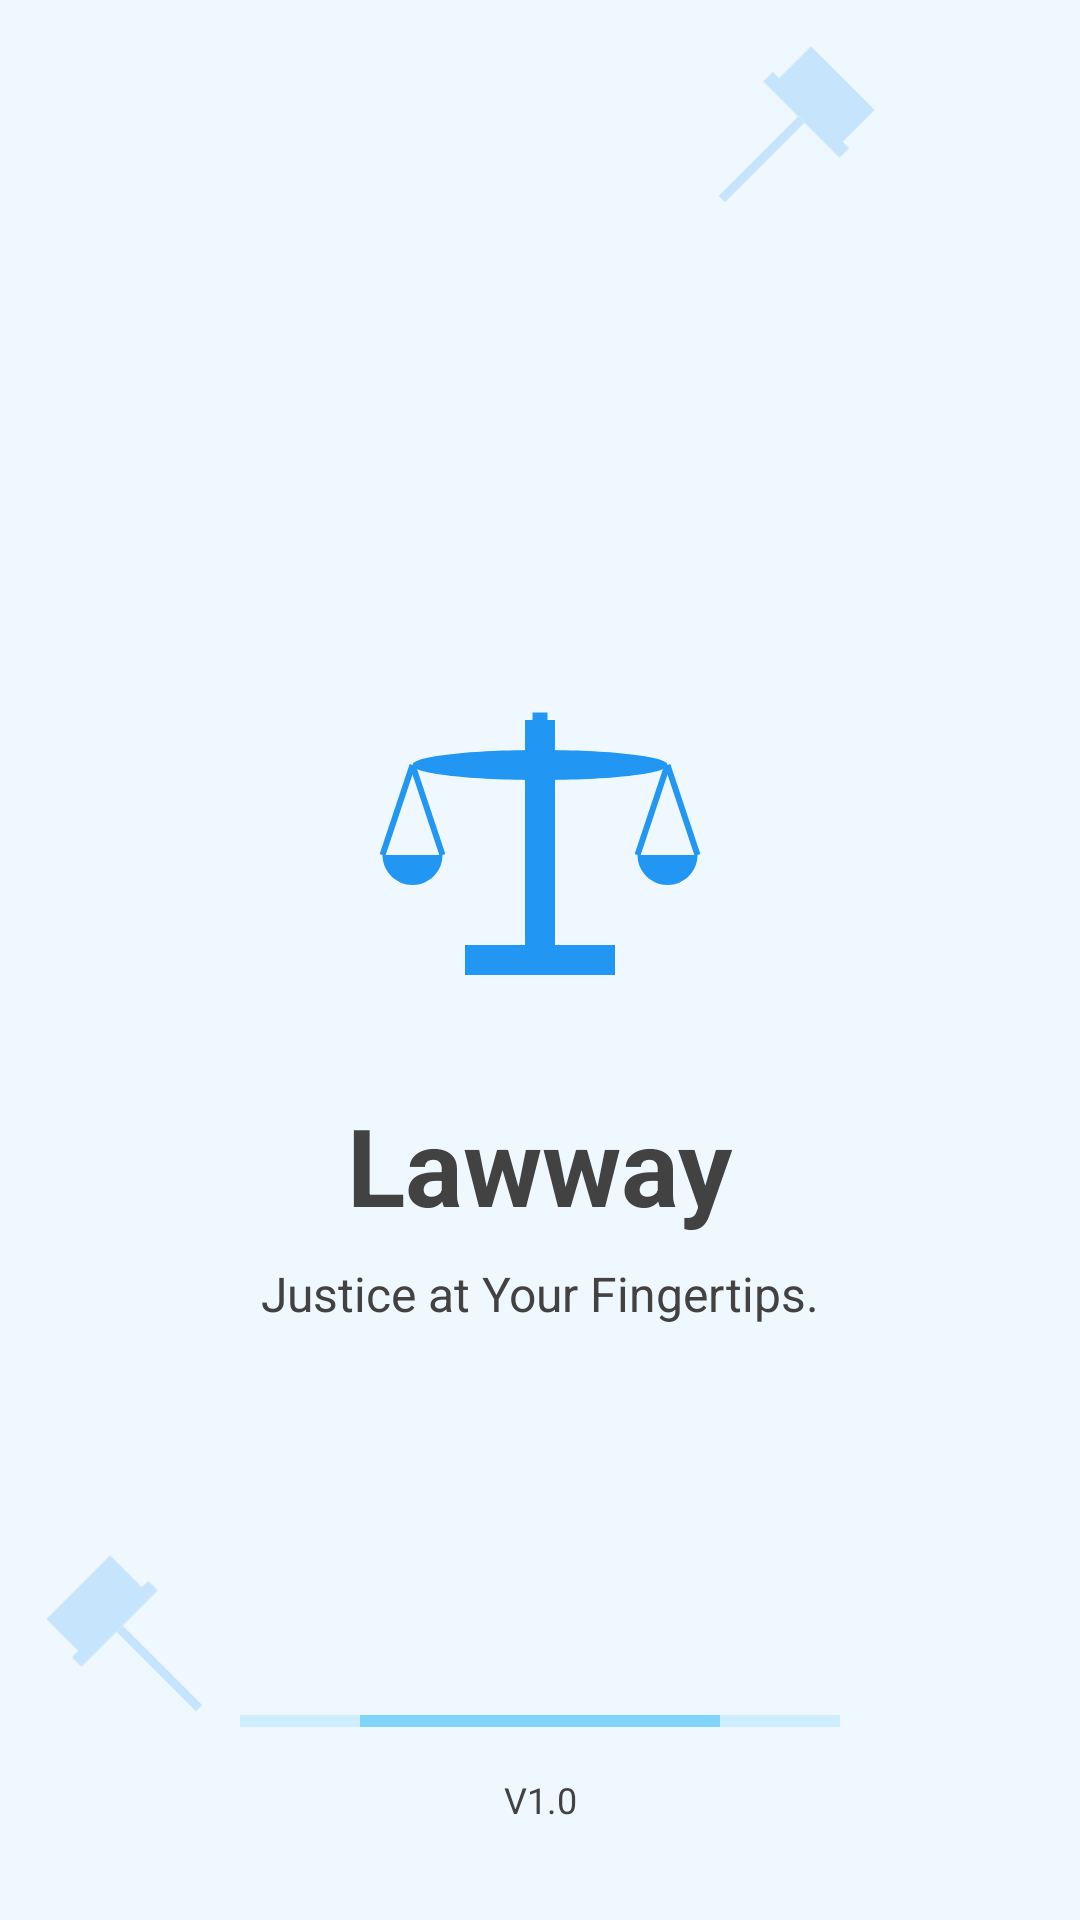

Locate icon controls on the screen. Image size 1080×1920, boxes as (x1, y1, x2, y2).
scales justice: (379, 712, 701, 975)
